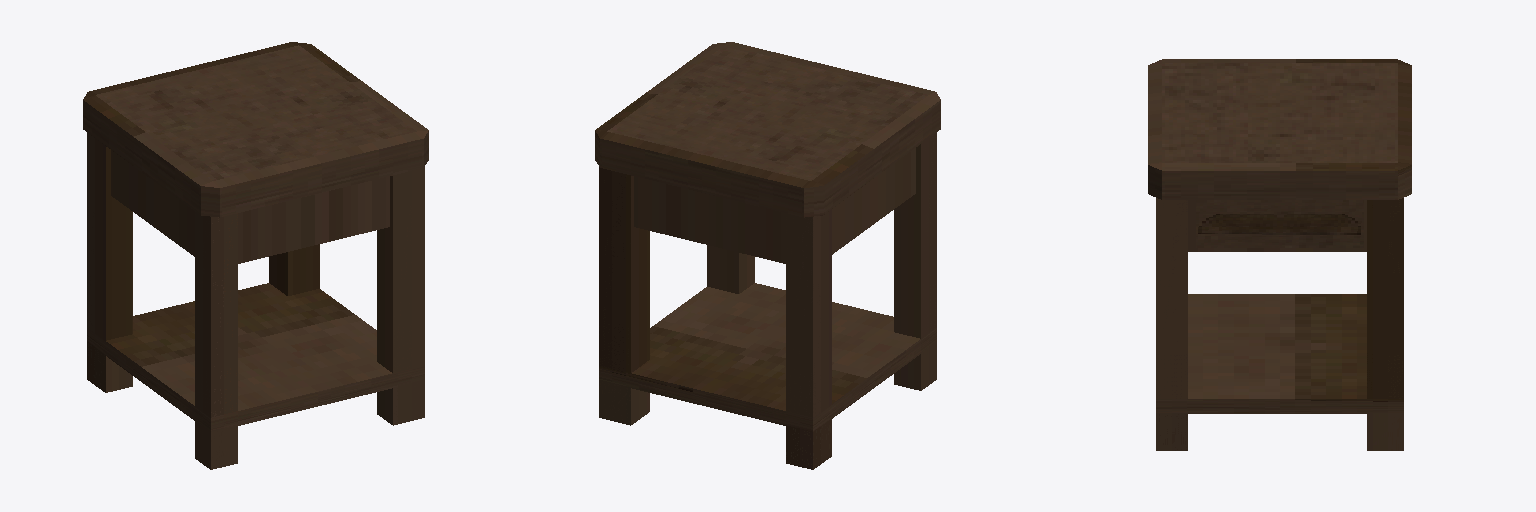
The picture shows the model from 3 angles: view 1: azimuth 30°, elevation 25°; view 2: azimuth 150°, elevation 25°; view 3: azimuth 270°, elevation 25°; orthographic projection.
Parts seen in each view (by area): view 1: Cabinet_Bottom_Cube, Cabinet_Top_Cube.001; view 2: Cabinet_Bottom_Cube, Cabinet_Top_Cube.001; view 3: Cabinet_Top_Cube.001, Cabinet_Bottom_Cube.
Boxes of the visible parts, x1,y1,x2,y2 form: Cabinet_Bottom_Cube: [87, 133, 424, 469]; Cabinet_Top_Cube.001: [83, 42, 428, 263]; Cabinet_Bottom_Cube: [599, 133, 936, 469]; Cabinet_Top_Cube.001: [595, 42, 940, 263]; Cabinet_Top_Cube.001: [1148, 59, 1411, 251]; Cabinet_Bottom_Cube: [1156, 198, 1403, 450].
Bounding box in the file's own units: 6.4 × 7.64 × 6.4.
2 materials, 1 textured.